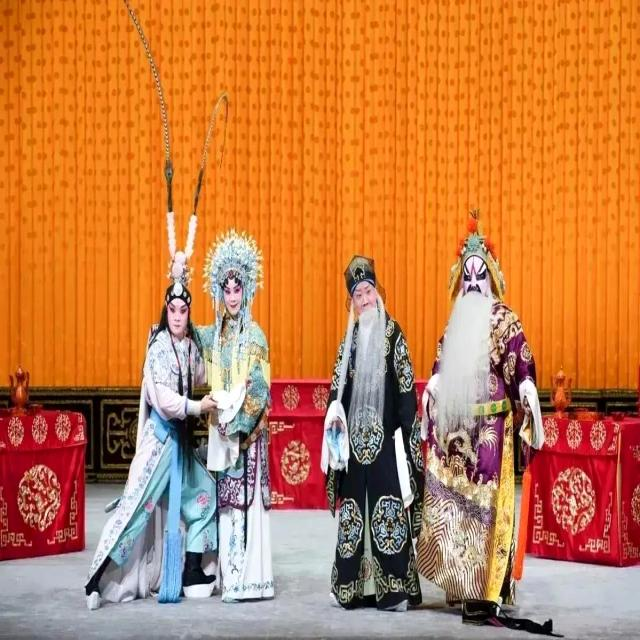Reeves-s Pheasant: (123, 0, 173, 220), (191, 91, 228, 217)
